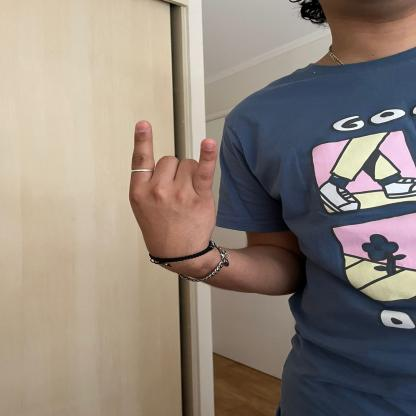U: (126, 116, 226, 261)
